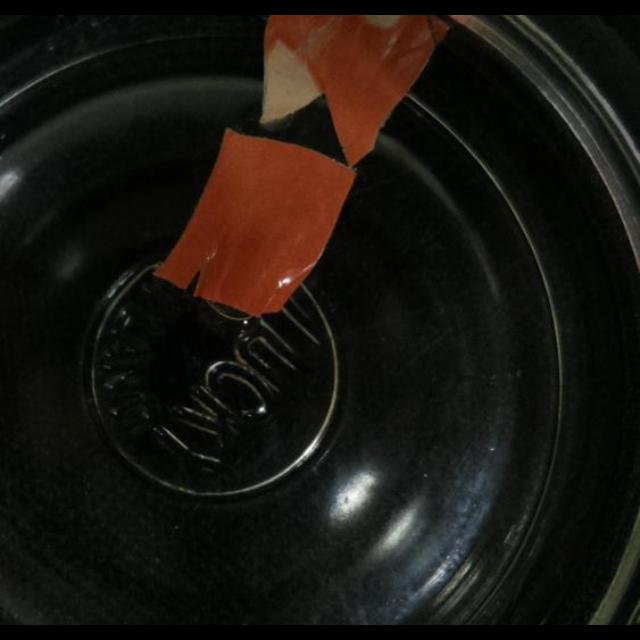Fragment: (162, 132, 352, 316), (284, 18, 446, 160)
